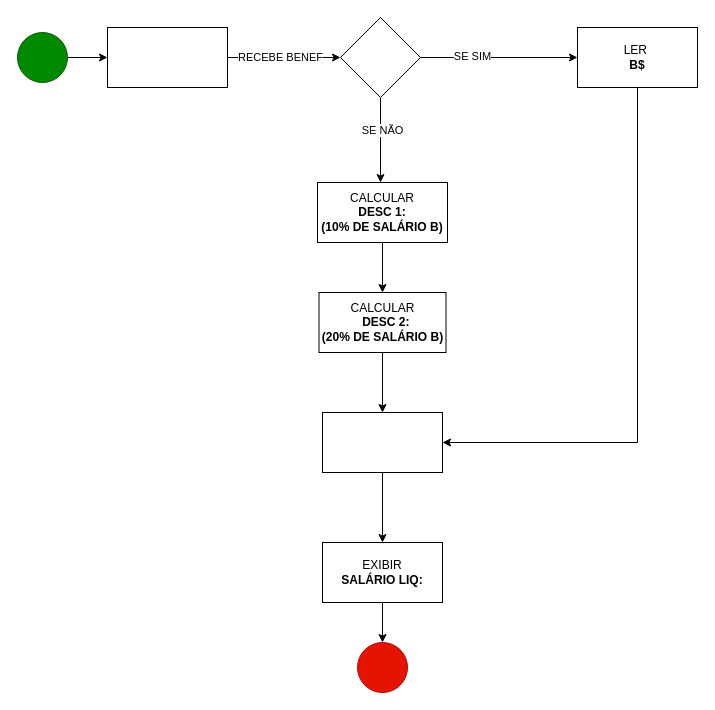
Image size: 715x710. Some labels were removed from this diagram. Each missing label, with the box of its shape:
CALCULAR SALÁRIO LIQ: ((DESC1 + DESC2) - SALÁRIO B) + B$: (322, 412, 442, 472)
LER SALÁRIO B: (106, 26, 228, 88)
